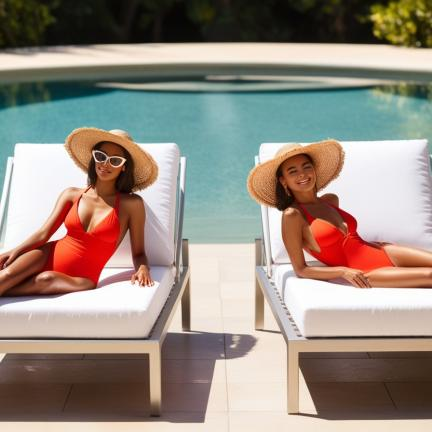guest on chair: (0, 127, 190, 415), (248, 140, 432, 413)
